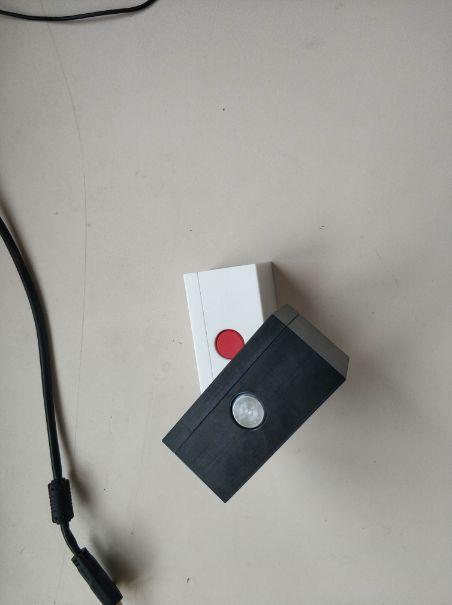black+black+silver: (160, 308, 355, 506)
white+white+red: (180, 260, 283, 395)
